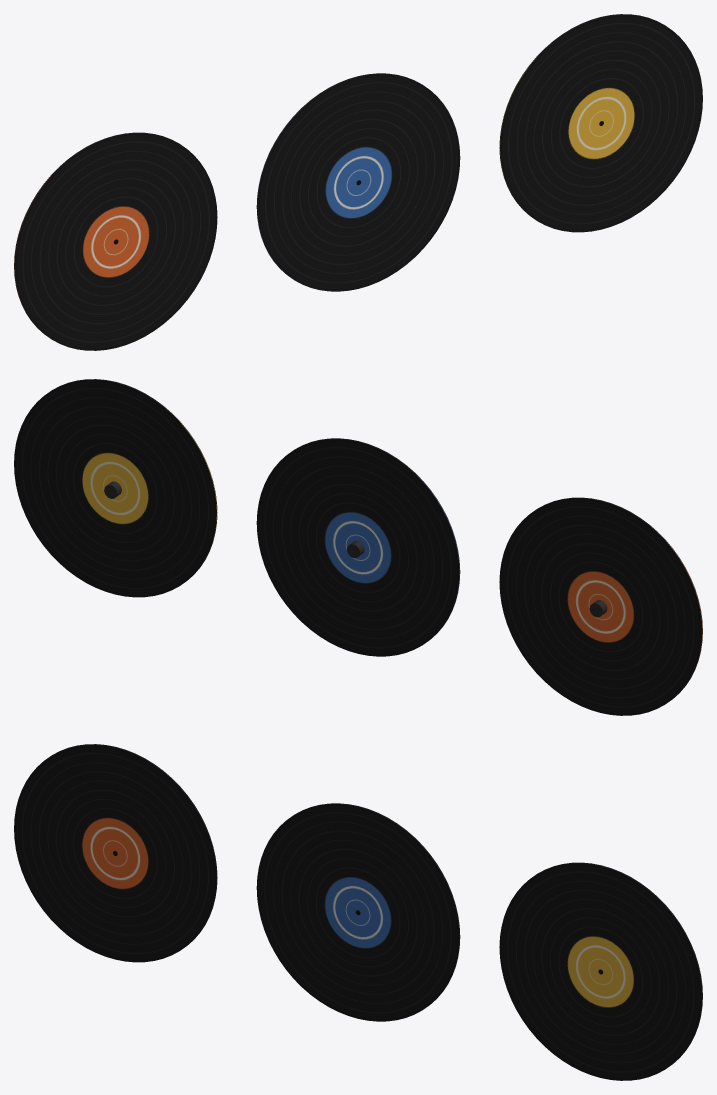
File: obj-vinyl-wall-display.glb
3 views of the same model, one above another, from view 1: azimuth 30°, elevation 25°; view 2: azimuth 150°, elevation 25°; view 3: azimuth 330°, elevation 25° (orthographic).
Visible parts, largest first — view 1: obj-vinyl-wall-display; view 2: obj-vinyl-wall-display; view 3: obj-vinyl-wall-display.
Boxes of the visible parts, x1,y1,x2,y2 form: obj-vinyl-wall-display: (14,14,702,350); obj-vinyl-wall-display: (14,379,702,715); obj-vinyl-wall-display: (14,744,702,1080).
Size of the model in its own units: 1.03 by 0.304 by 0.014.
Materials: 4 (3 with a texture image).
